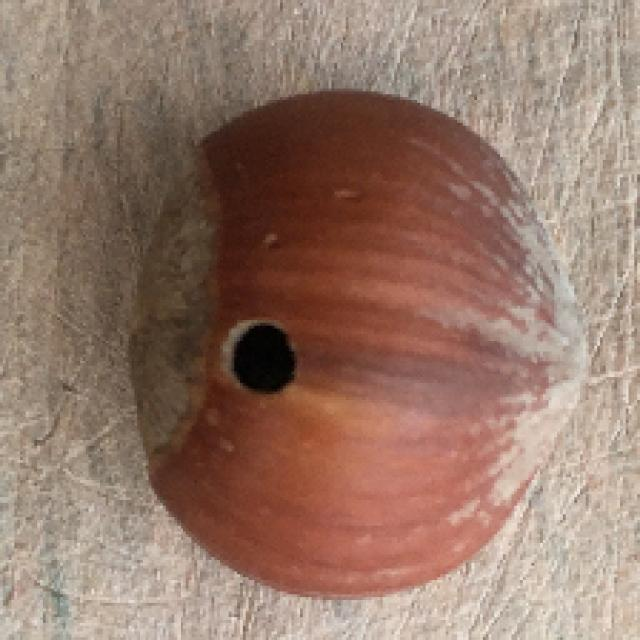damagedHazelnut: (134, 86, 586, 600)
